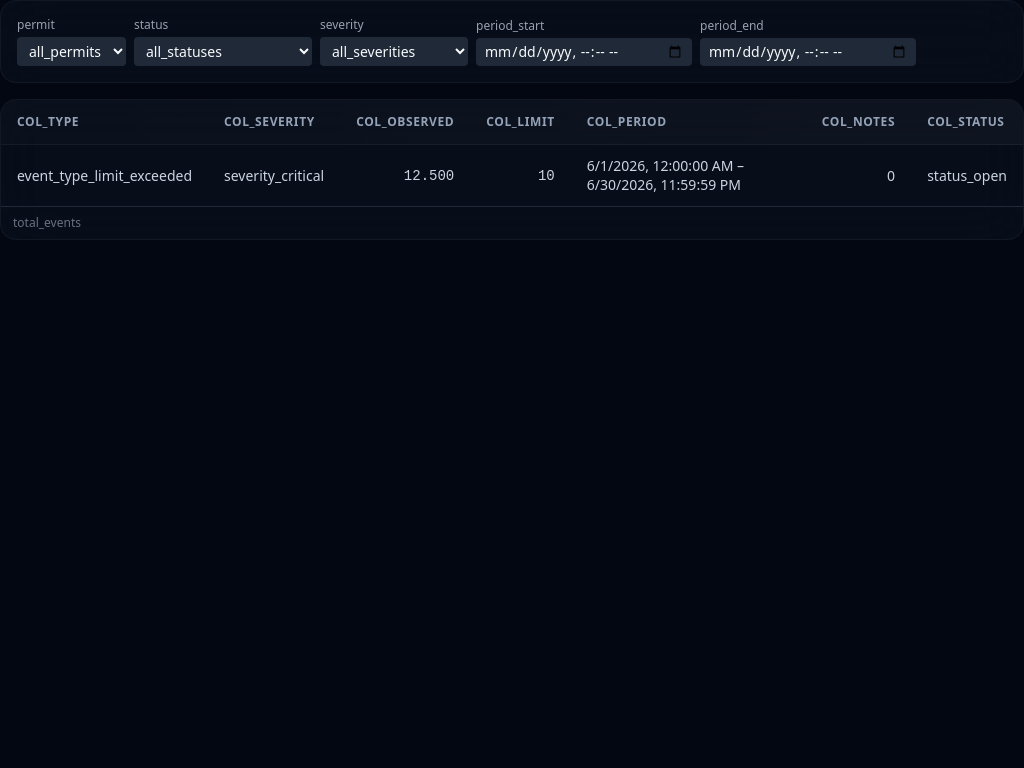
it: Compliance EventsTab › blocks a waive status change when no reason is provided
This screenshot has width=1024, height=768.
// open the detail panel
What coordinates should you click on to do the following:
click the text "event_type_limit_exceeded"
I would click on:
 (104, 176)
Its box is top-left (1, 145), bottom-right (208, 206).
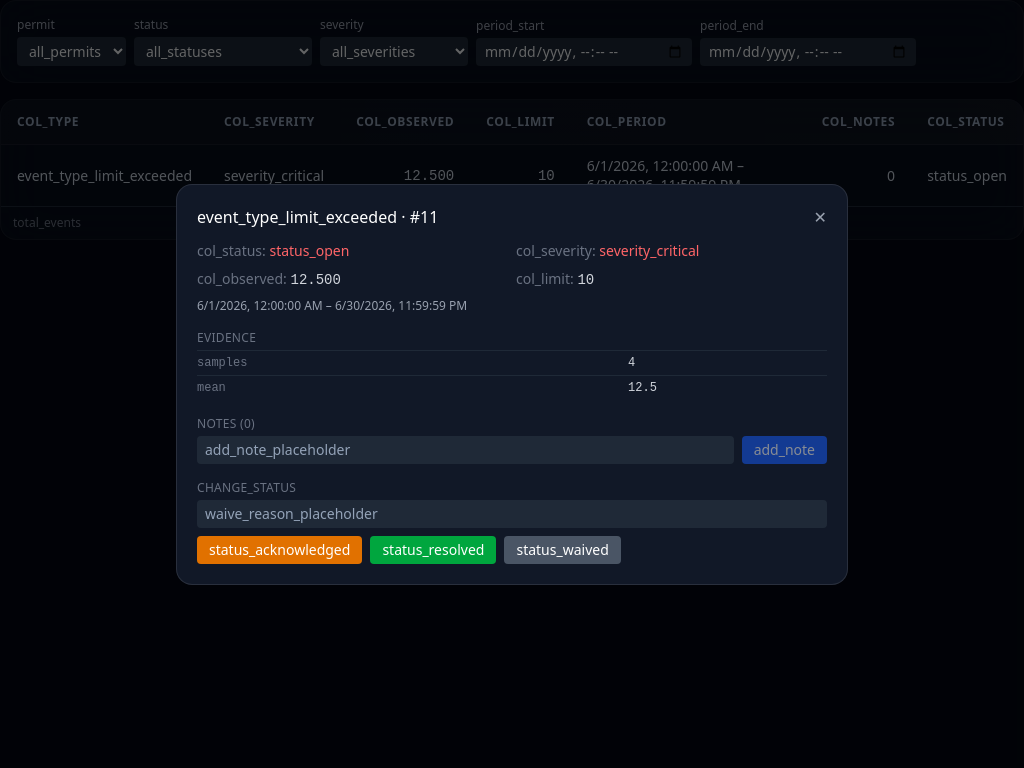
Result: the text "change_status" is shown at top-left (197, 478), bottom-right (296, 496)
What coordinates should you click on to do the following:
click the button "status_waived"
I would click on:
 (563, 550)
Its box is top-left (504, 536), bottom-right (621, 564).
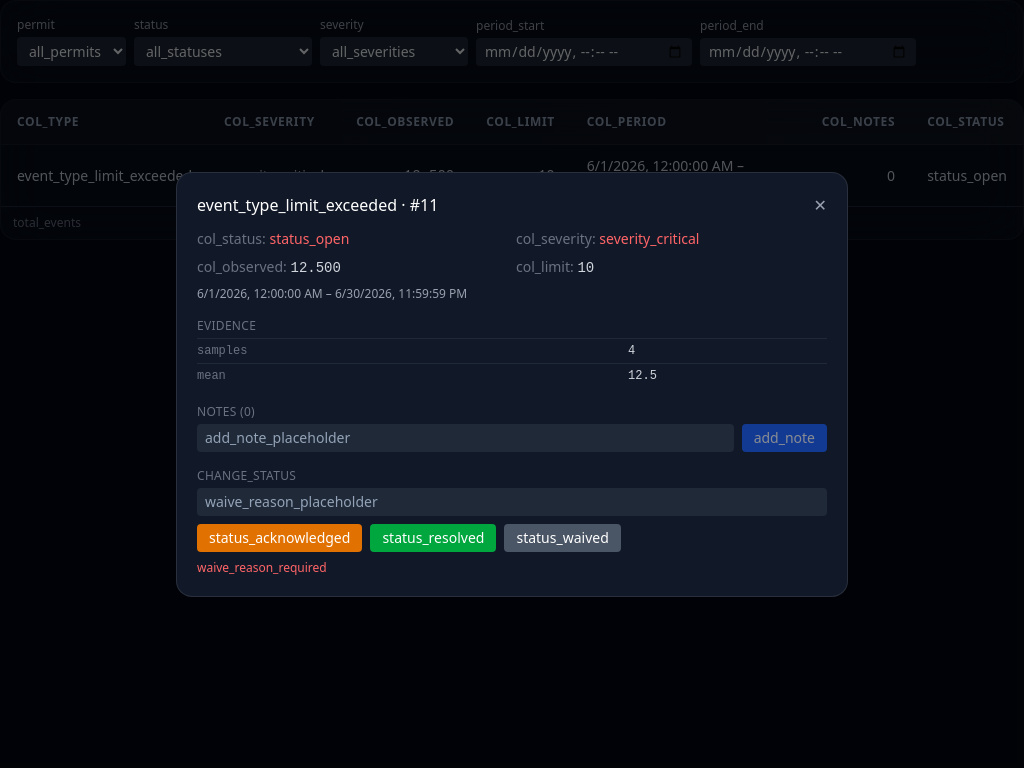
Result: the text "waive_reason_required" is shown at top-left (197, 558), bottom-right (327, 576)
